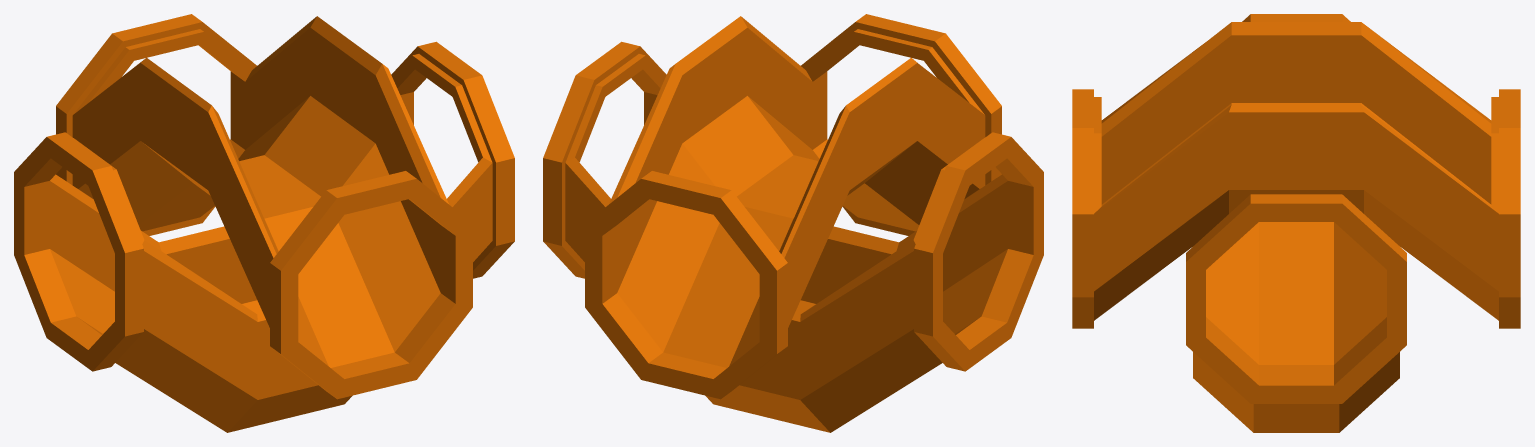
Rendered from pipe.glb.
The picture shows the model from 3 angles, left to right: view 1: azimuth 30°, elevation 25°; view 2: azimuth 150°, elevation 25°; view 3: azimuth 270°, elevation 25°; orthographic projection.
Parts seen in each view (by area): view 1: X Tube 2, X Tube 1; view 2: X Tube 2, X Tube 1; view 3: X Tube 2, X Tube 1.
Boxes of the visible parts, x1,y1,x2,y2 form: X Tube 2: [56, 14, 472, 399]; X Tube 1: [14, 41, 514, 432]; X Tube 2: [585, 14, 1001, 399]; X Tube 1: [543, 41, 1043, 432]; X Tube 2: [1072, 22, 1520, 328]; X Tube 1: [1186, 14, 1406, 432].
Size of the model in its own units: 2 by 1.68 by 2.
